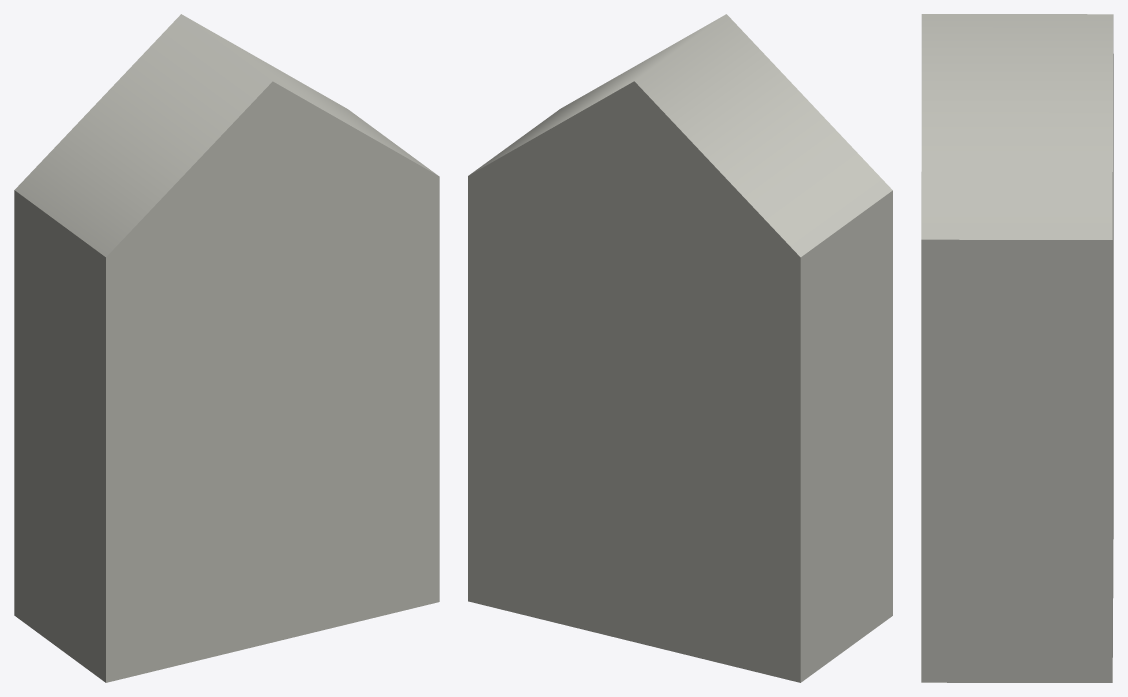
Rendered from cemetary_headstone1.fbx.
3 views of the same model, side by side, from view 1: azimuth 30°, elevation 25°; view 2: azimuth 150°, elevation 25°; view 3: azimuth 270°, elevation 25° (orthographic). The views are drawn at different scales.
Parts seen in each view (by area): view 1: polySurface1393; view 2: polySurface1393; view 3: polySurface1393.
Boxes of the visible parts, x1,y1,x2,y2 form: polySurface1393: [14, 14, 439, 682]; polySurface1393: [468, 14, 892, 682]; polySurface1393: [921, 14, 1113, 682].
Size of the model in its own units: 15.82 by 25.43 by 7.59.
1 material, 1 textured.
